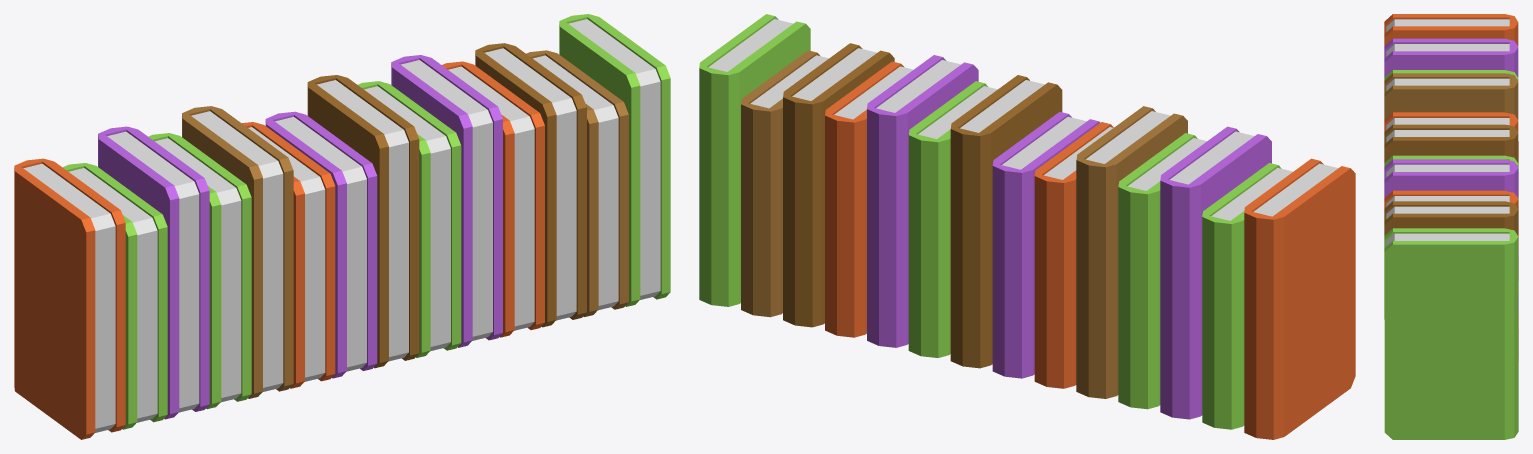
The model's file is books.fbx.
The picture shows the model from 3 angles, left to right: view 1: azimuth 30°, elevation 25°; view 2: azimuth 150°, elevation 25°; view 3: azimuth 270°, elevation 25°; orthographic projection. The views are drawn at different scales.
Parts seen in each view (by area): view 1: books; view 2: books; view 3: books.
Boxes of the visible parts, x1,y1,x2,y2 form: books: [14, 14, 670, 439]; books: [699, 14, 1355, 439]; books: [1384, 14, 1518, 439].
Bounding box in the file's own units: 1.11 × 0.421 × 0.2611.
